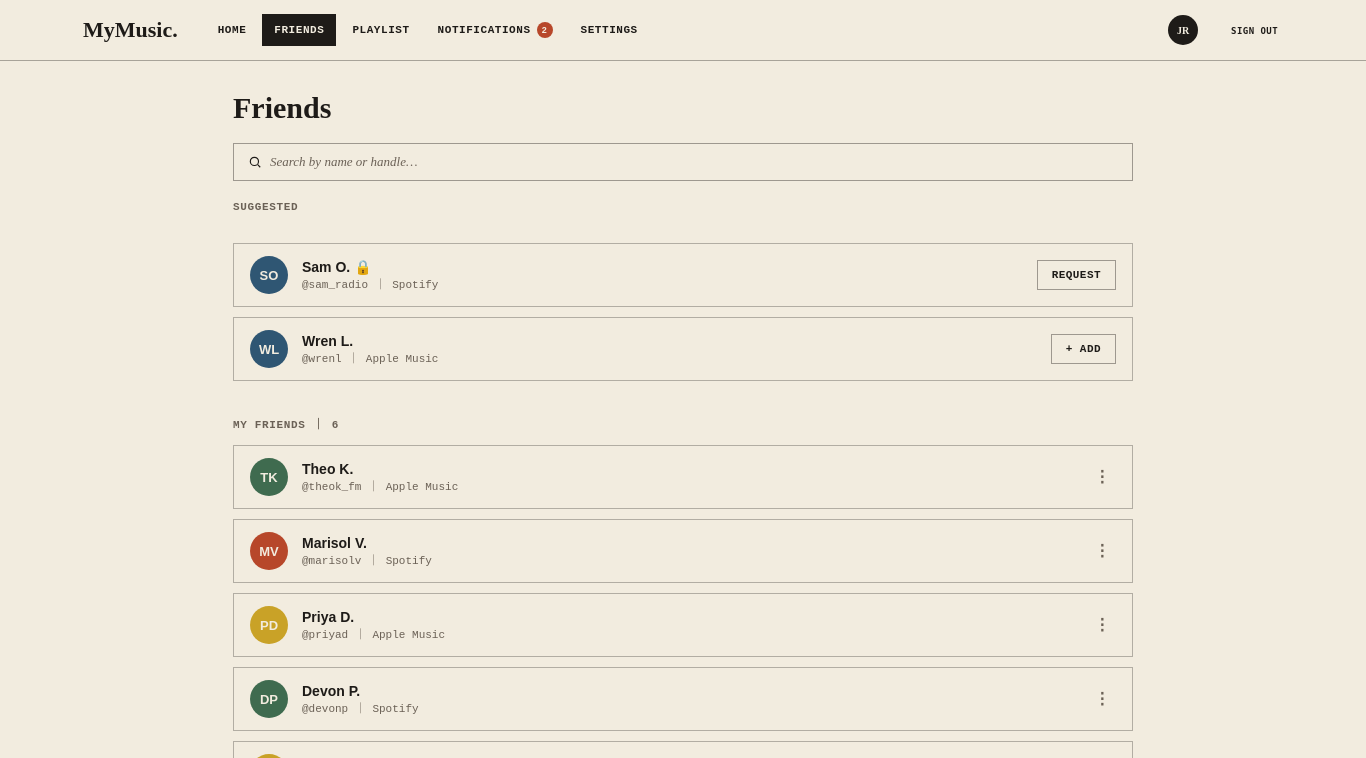
Test case: announcements › puts toasts in a polite live region
Click the button with aria-label "Add Wren L.": x=1083, y=349 [1051, 334, 1116, 364]
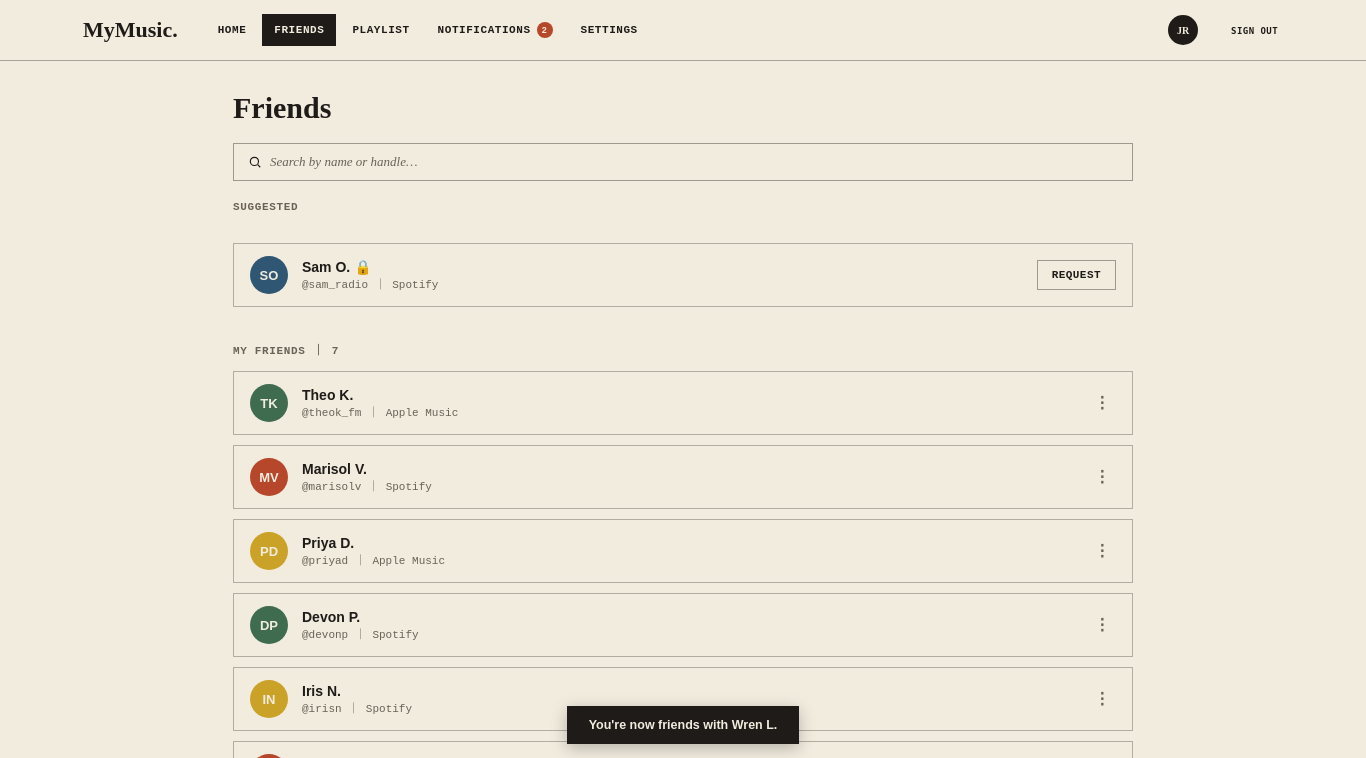
Expected: the message reads "You're now friends with Wren L.", [589, 718, 777, 732]
